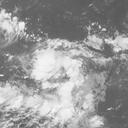cyclone: (25, 47, 81, 106)
